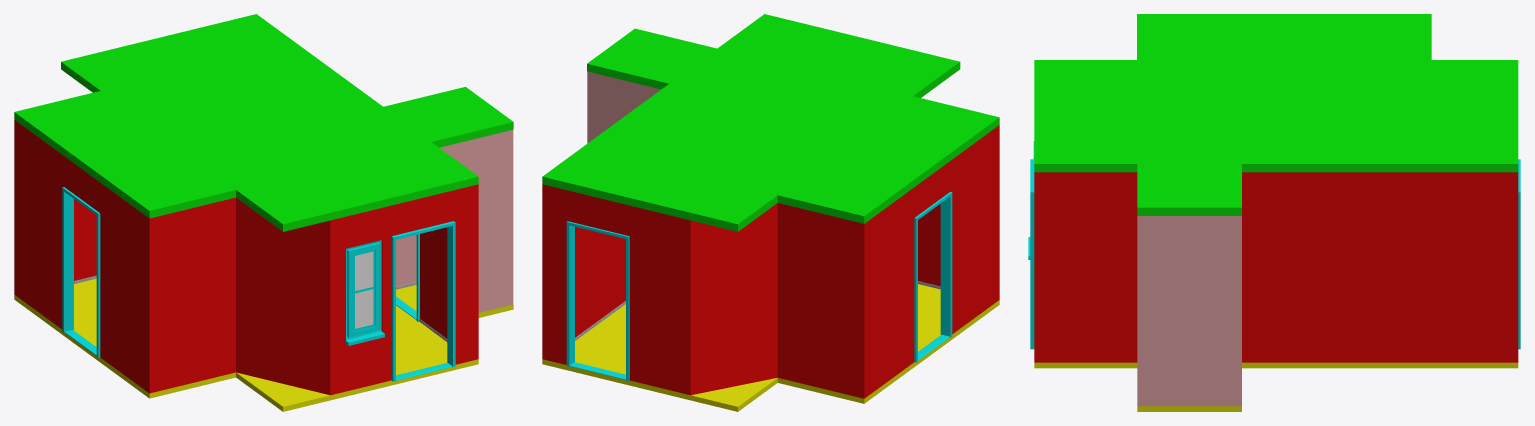
The model's file is FloorPlan513_physics.fbx.
3 renders of one model, left to right at view 1: azimuth 30°, elevation 25°; view 2: azimuth 150°, elevation 25°; view 3: azimuth 270°, elevation 25°, orthographic. The views are drawn at different scales.
Parts seen in each view (by area): view 1: FP513:Walls_1, FP513:Ceiling_1, FP513:Walls_2, FP513:Floor_1, FP513:Ceiling_2, FP513:DoorFrame_2, FP513:WindowFrame_1, FP513:DoorFrame_1, FP513:WindowPane_1, FP513:Floor_2; view 2: FP513:Walls_1, FP513:Ceiling_1, FP513:Floor_1, FP513:Ceiling_2, FP513:Walls_2, FP513:DoorFrame_2, FP513:DoorFrame_3; view 3: FP513:Walls_1, FP513:Ceiling_1, FP513:Walls_2, FP513:Ceiling_2, FP513:Floor_1, FP513:DoorFrame_1, FP513:Floor_2, FP513:DoorFrame_3.
Part boxes in pixels (box(x1,y1,x2,y2)): FP513:Walls_1: box(14, 120, 478, 395); FP513:Ceiling_1: box(14, 14, 478, 231); FP513:Walls_2: box(396, 130, 513, 312); FP513:Floor_1: box(14, 278, 478, 411); FP513:Ceiling_2: box(383, 87, 513, 147); FP513:DoorFrame_2: box(62, 187, 100, 357); FP513:WindowFrame_1: box(346, 240, 384, 345); FP513:DoorFrame_1: box(391, 221, 455, 381); FP513:WindowPane_1: box(355, 251, 373, 328); FP513:Floor_2: box(396, 285, 513, 317); FP513:Walls_1: box(542, 125, 999, 398); FP513:Ceiling_1: box(542, 14, 999, 231); FP513:Floor_1: box(542, 284, 999, 411); FP513:Ceiling_2: box(587, 28, 716, 89); FP513:Walls_2: box(587, 71, 660, 143); FP513:DoorFrame_2: box(914, 192, 952, 362); FP513:DoorFrame_3: box(566, 221, 629, 381); FP513:Walls_1: box(1034, 172, 1518, 362); FP513:Ceiling_1: box(1034, 14, 1518, 172); FP513:Walls_2: box(1137, 216, 1241, 406); FP513:Ceiling_2: box(1137, 164, 1241, 215); FP513:Floor_1: box(1034, 362, 1518, 368); FP513:DoorFrame_1: box(1030, 159, 1034, 349); FP513:Floor_2: box(1137, 406, 1241, 411); FP513:DoorFrame_3: box(1518, 159, 1520, 349).
Bounding box in the file's own units: 548 × 268 × 585.
